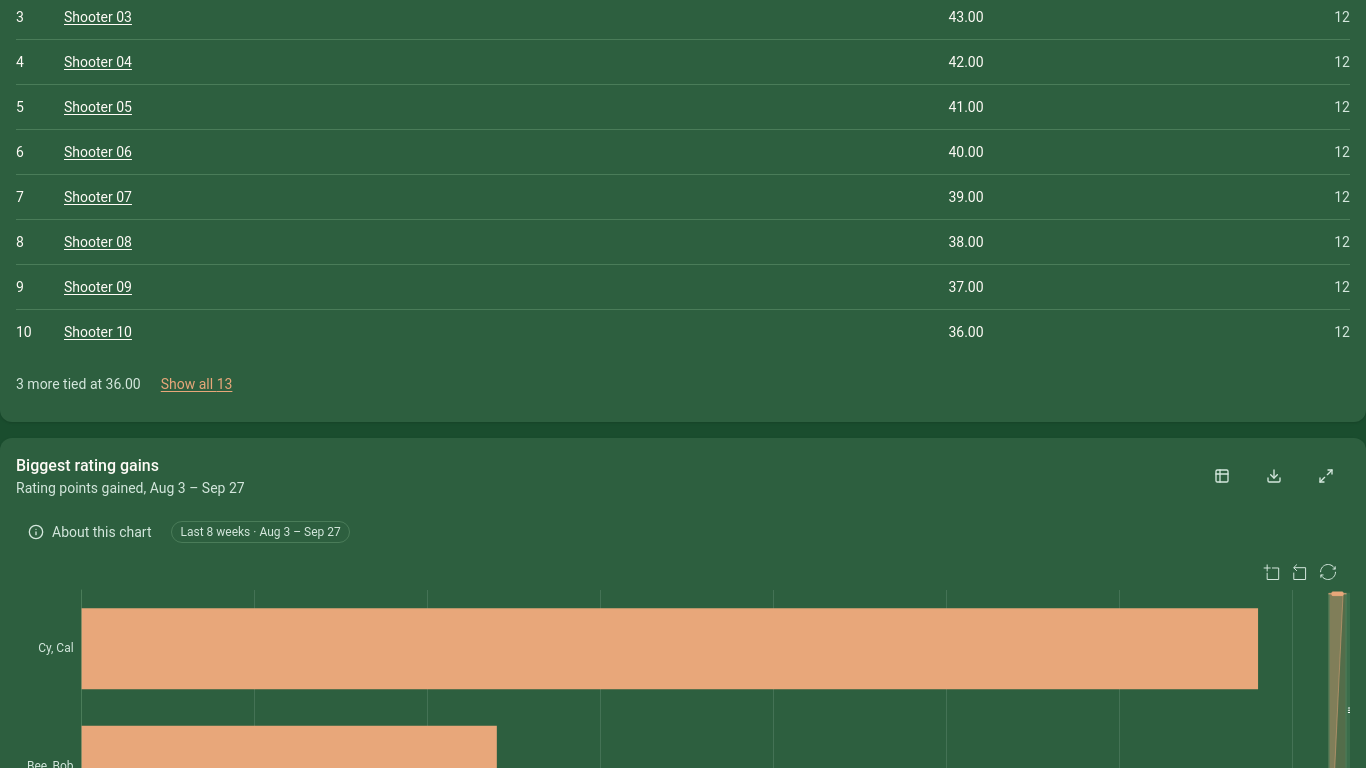
Test: LeaderboardsPage › the standings table › shows ten rows, the tie the cut leaves out, and every row after Show all
The image size is (1366, 768).
(page scrolled)
Expected: the text "3 more tied at 36.00" is shown, [16, 374, 141, 394]
What coordinates should you click on to do the following:
click the button "Show all 13"
I would click on:
 (197, 384)
Its box is [153, 362, 240, 406].
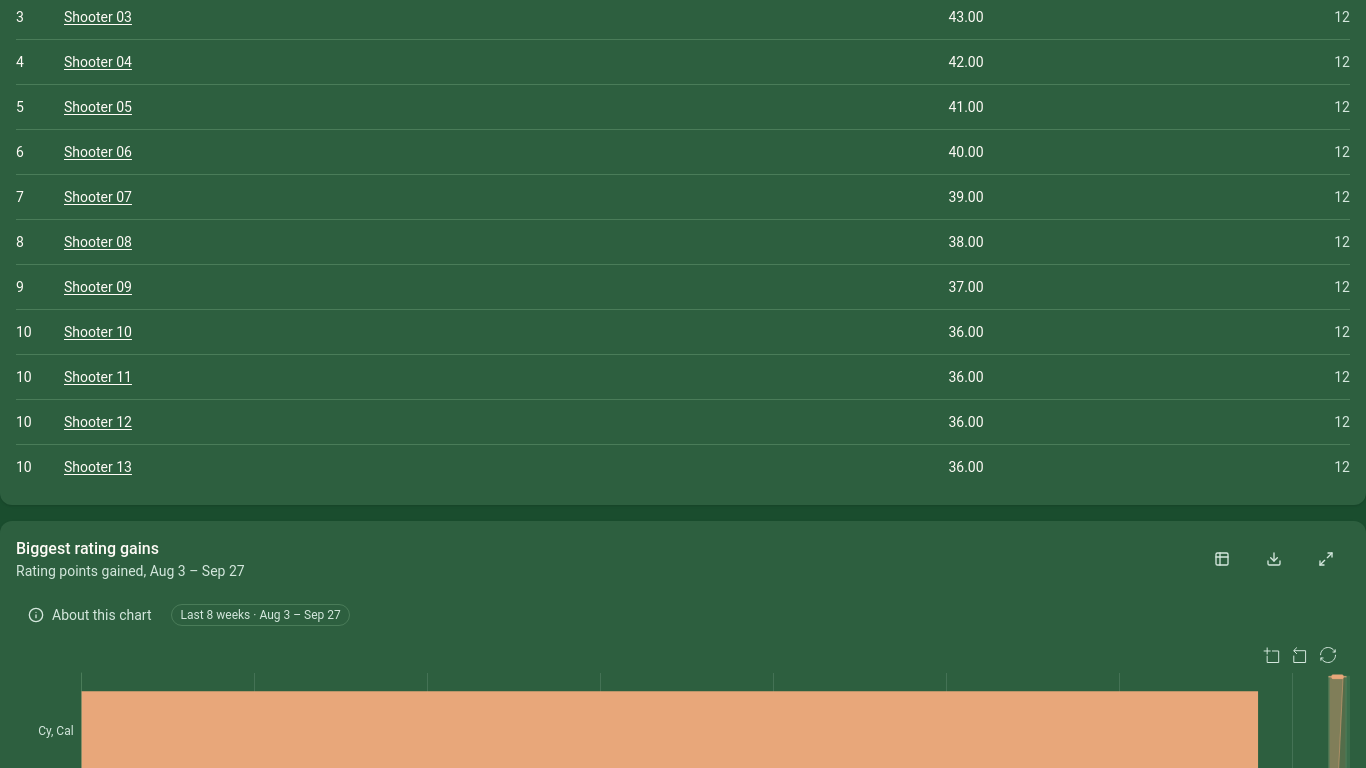
Expected: the button "Show all" is gone
